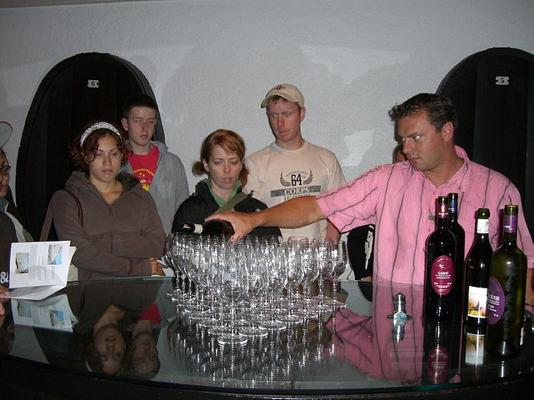person: (205, 93, 534, 313)
